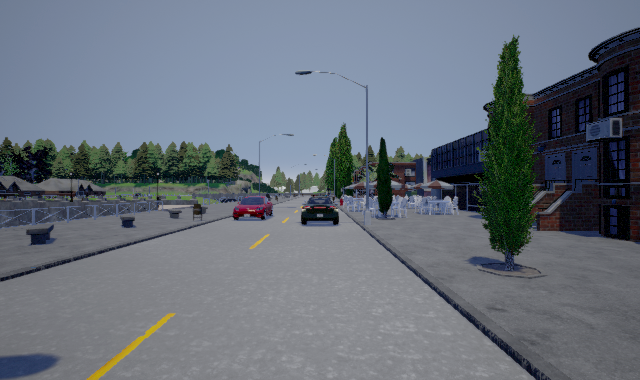vehicle: (301, 195, 339, 225), (233, 196, 273, 220)
